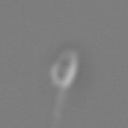normal: (42, 88, 78, 128)
